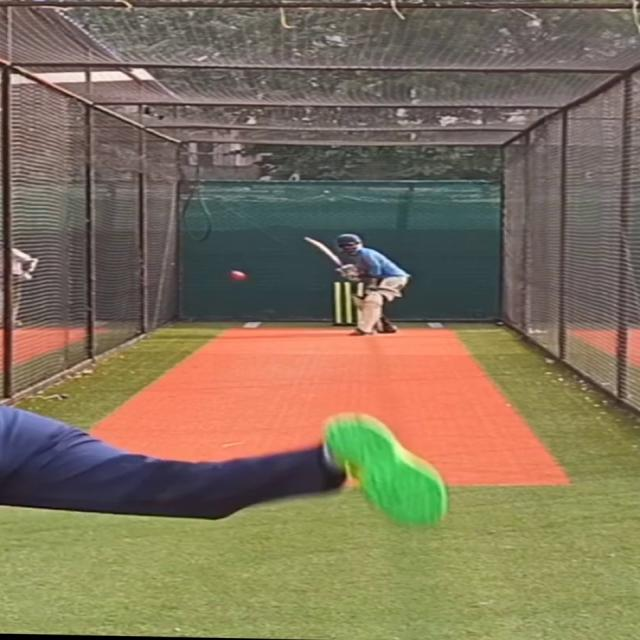ball: (222, 270, 248, 282)
stump: (327, 278, 364, 326)
